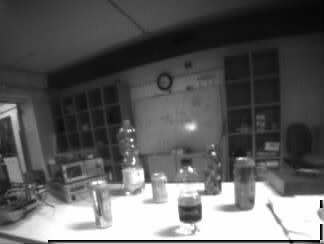Bottle: (175, 157, 202, 234), (117, 120, 144, 195), (203, 142, 221, 194)
Tin can: (234, 156, 255, 209), (91, 179, 112, 227), (150, 171, 166, 202)
